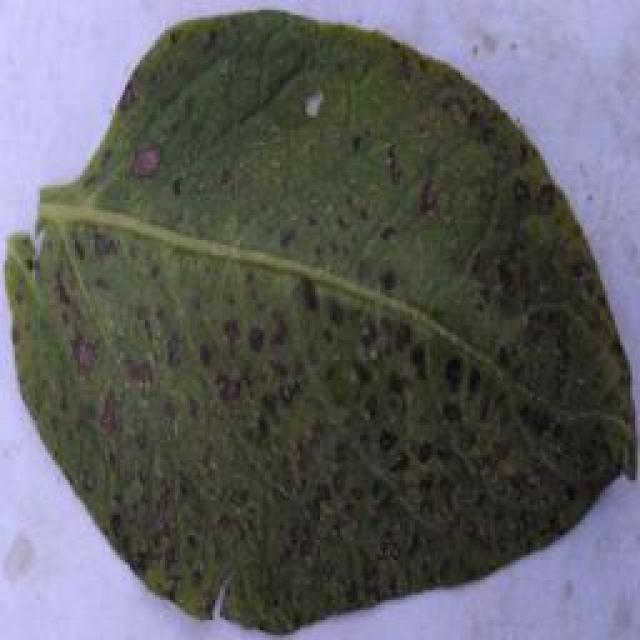Potato_Early_Blight: (3, 4, 635, 632)
